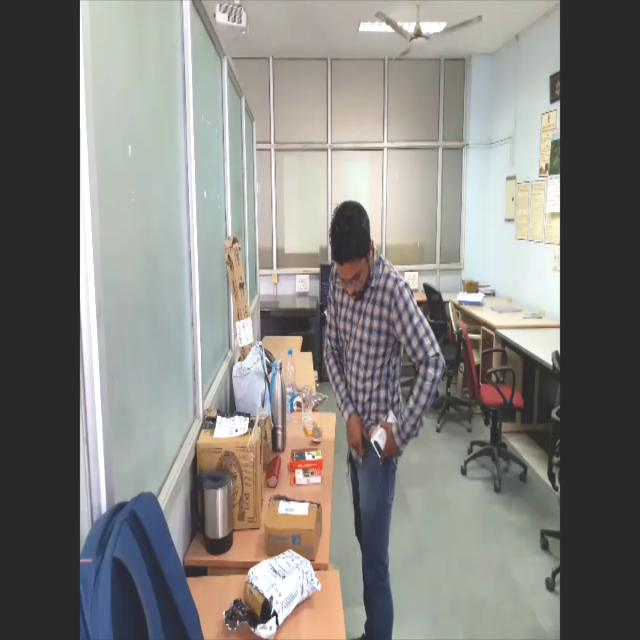shoplifting: (322, 176, 448, 640)
